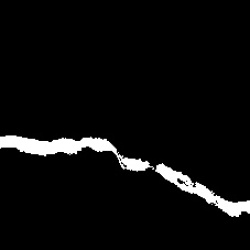crack: (1, 135, 153, 170), (157, 164, 248, 216)
